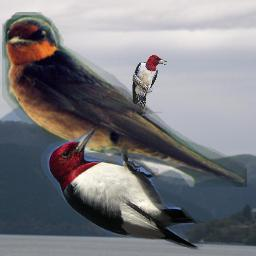Swallow: (2, 12, 247, 187)
Woodpecker: (40, 123, 208, 251), (131, 55, 169, 108)
